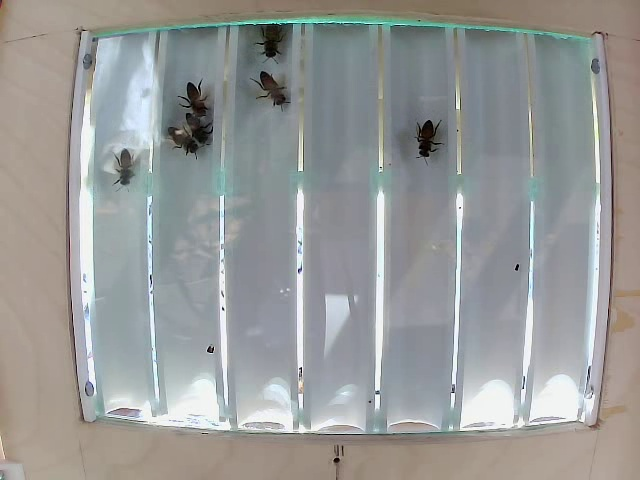bee: (252, 14, 308, 70), (106, 136, 140, 189), (406, 112, 439, 161), (248, 70, 289, 108), (187, 81, 225, 119), (165, 120, 197, 156), (178, 109, 211, 139)
